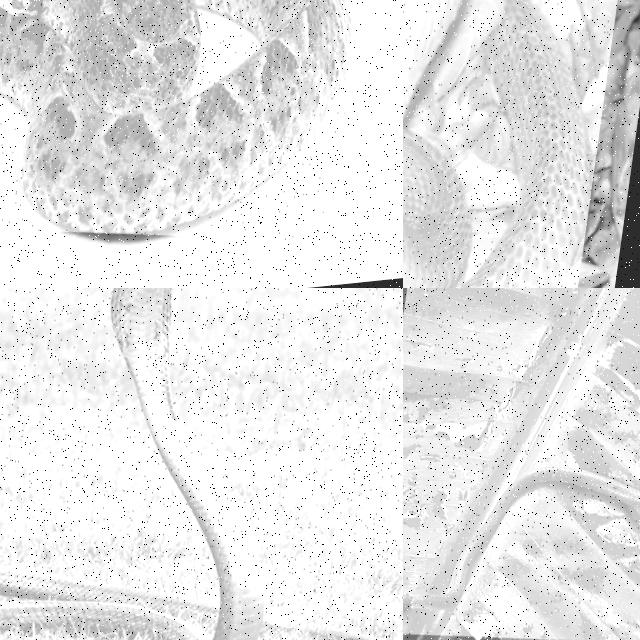Calliophis maculiceps: (403, 465, 639, 612)
Calloselasma rhodostoma: (0, 0, 351, 233)
Naja siamensis: (464, 0, 590, 287)
Ophiophagus hannah: (0, 288, 379, 639)
